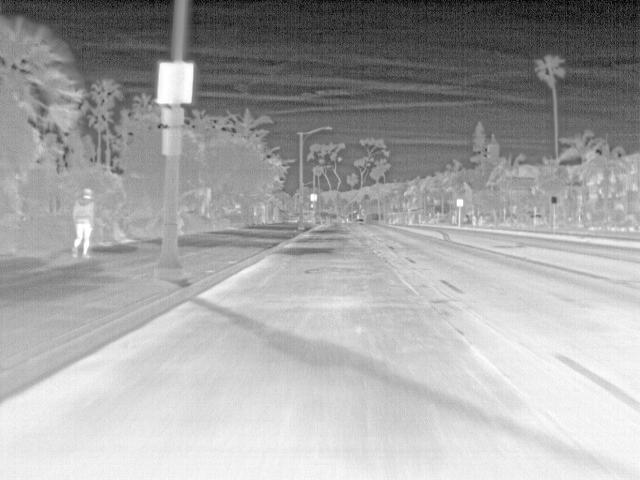person: (71, 186, 98, 260)
